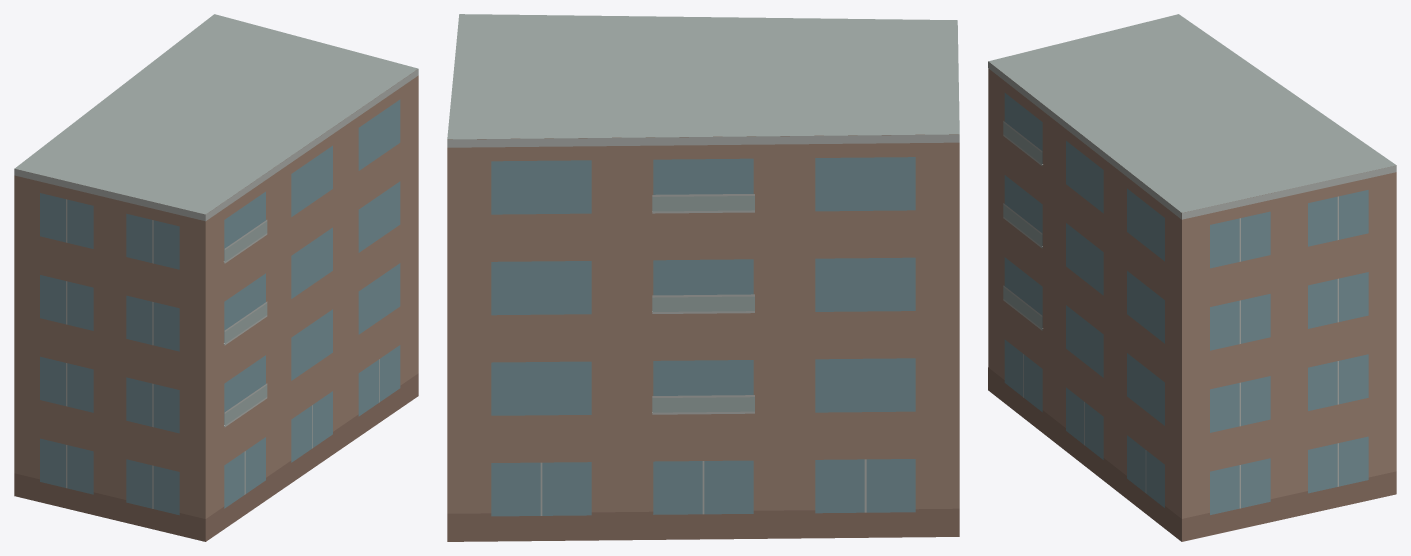
Rendered from survey-upis-33021428.glb.
3 views of the same model, side by side, from view 1: azimuth 30°, elevation 25°; view 2: azimuth 150°, elevation 25°; view 3: azimuth 270°, elevation 25° (orthographic). The views are drawn at different scales.
Parts seen in each view (by area): view 1: survey-upis-33021428.tmp; view 2: survey-upis-33021428.tmp; view 3: survey-upis-33021428.tmp.
Boxes of the visible parts, x1,y1,x2,y2 form: survey-upis-33021428.tmp: (14,14,418,541); survey-upis-33021428.tmp: (447,14,959,541); survey-upis-33021428.tmp: (988,14,1396,541).
Size of the model in its own units: 15.31 by 11.8 by 13.29.
